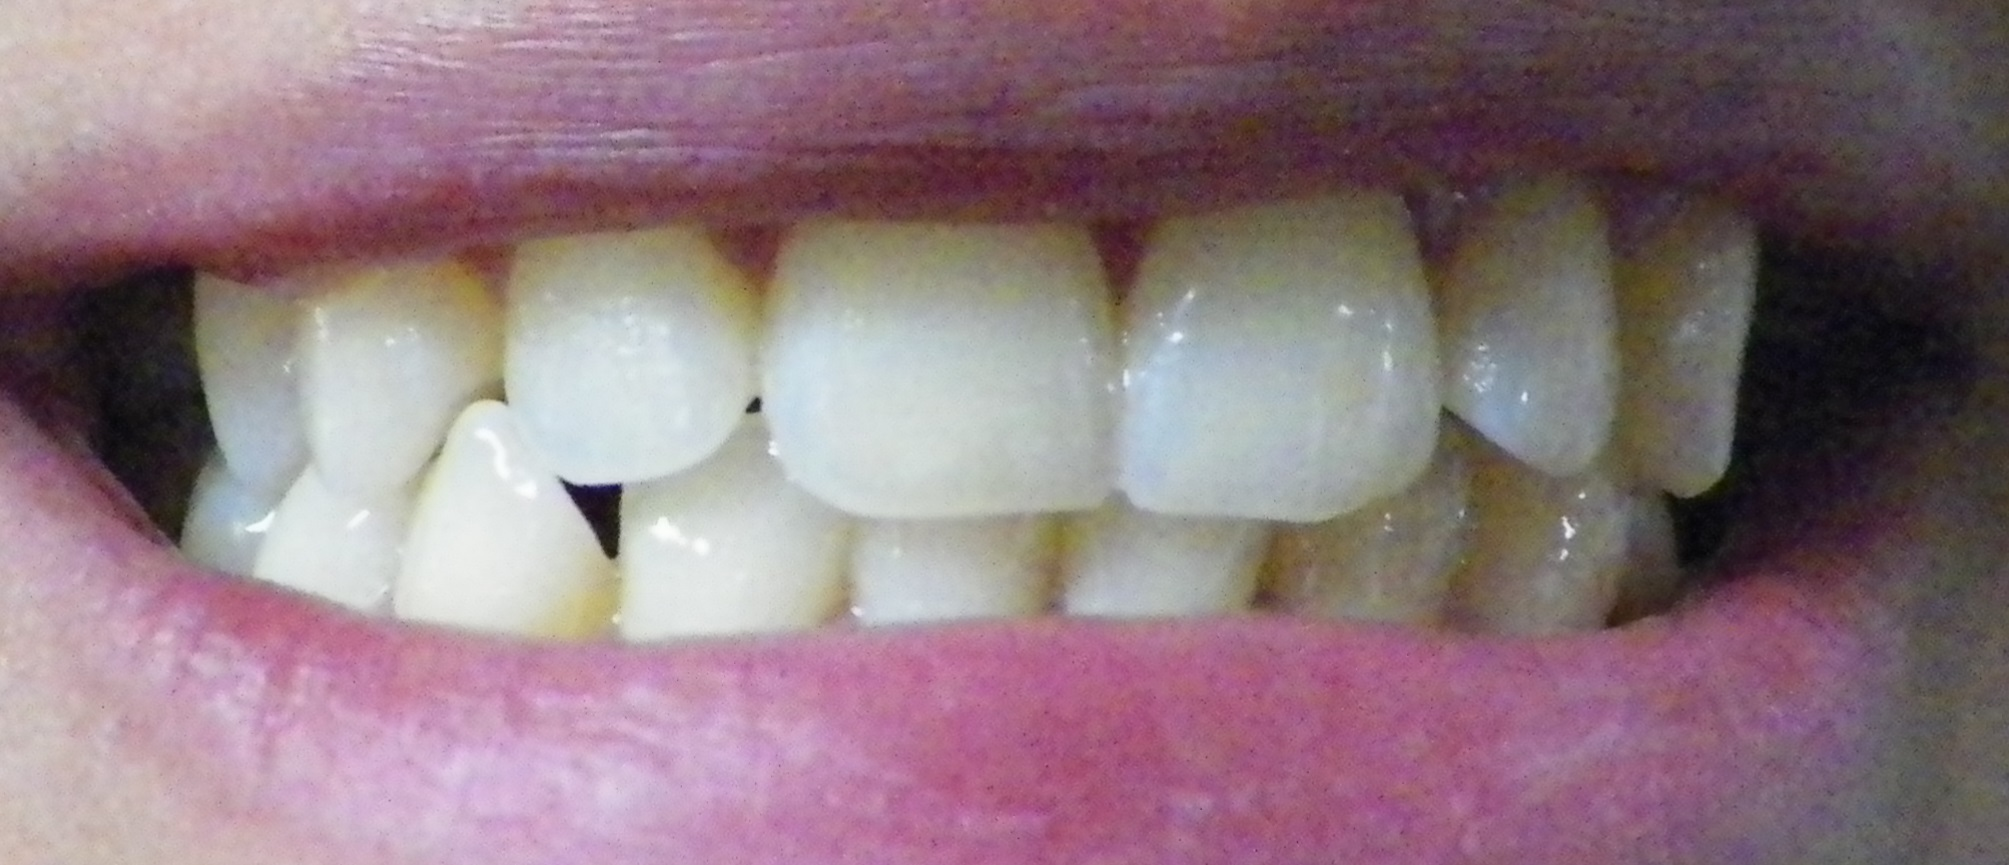boca: (179, 195, 1759, 629)
